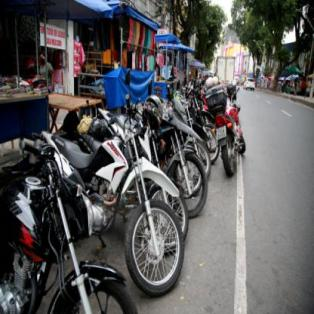Motocicleta: (0, 133, 140, 314), (61, 111, 187, 292)
